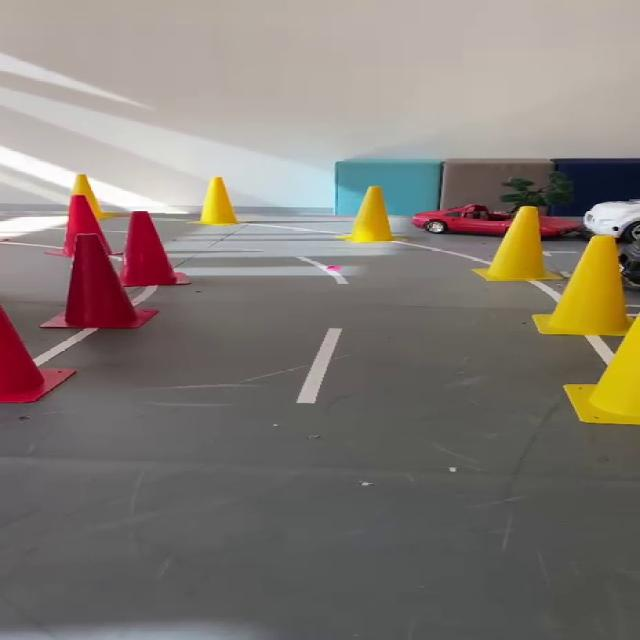Cone-red: (41, 234, 152, 329), (0, 305, 74, 403), (121, 211, 188, 286), (65, 175, 116, 255)
Cones-yellow: (532, 235, 629, 336), (564, 316, 639, 425), (474, 206, 560, 281), (339, 186, 393, 242), (72, 174, 119, 221), (199, 177, 239, 225)
